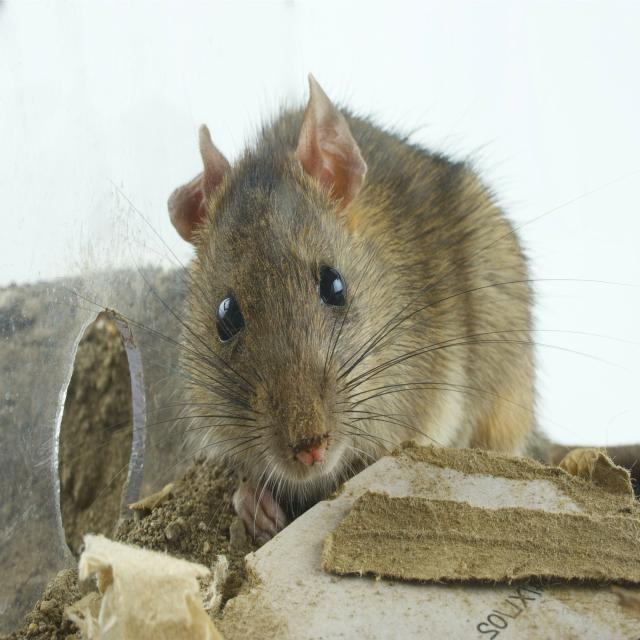rat: (169, 75, 536, 535)
